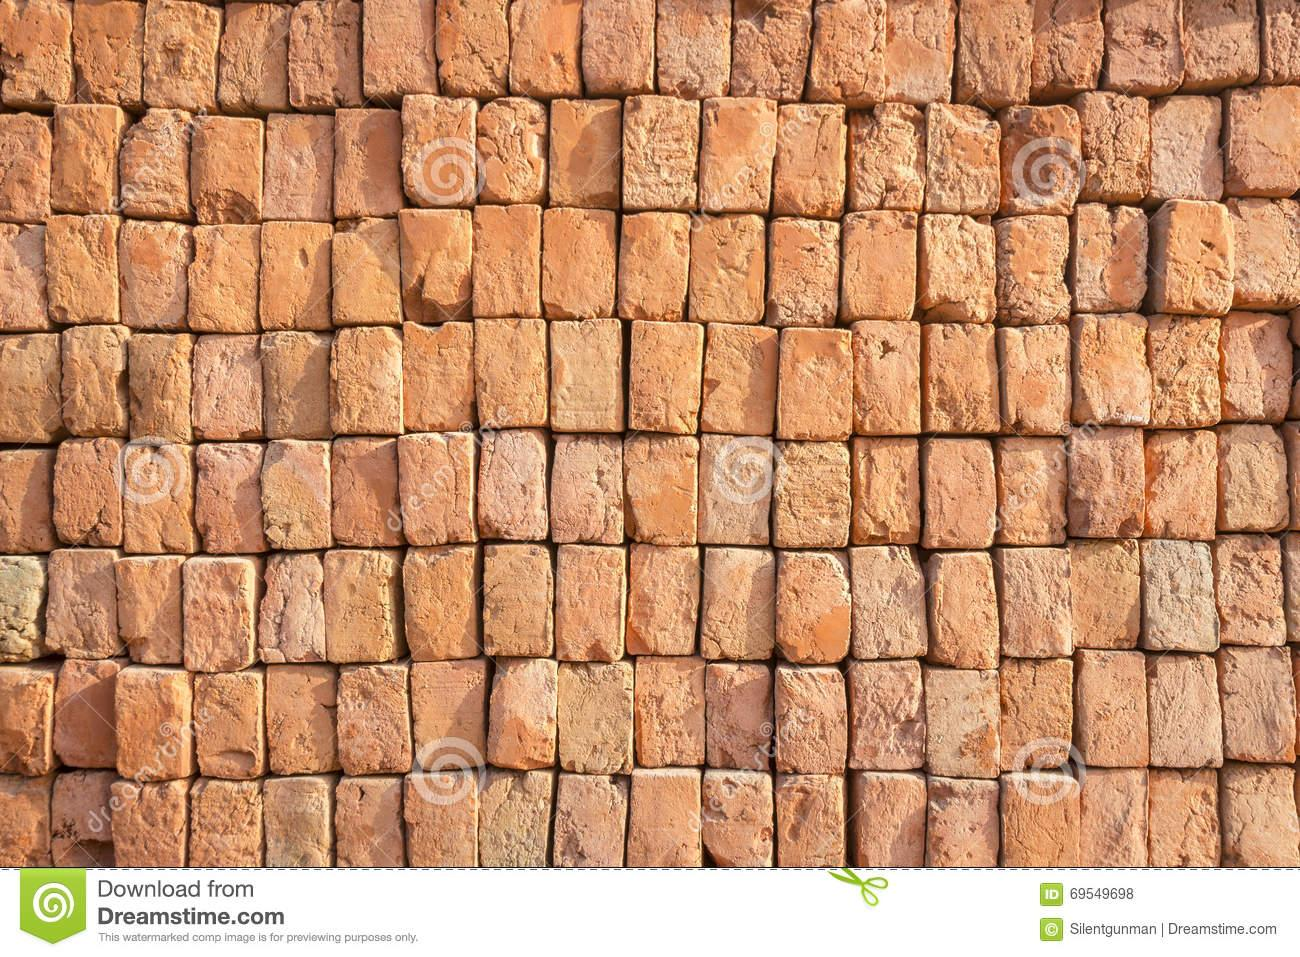brick: (1218, 646, 1297, 763), (998, 105, 1082, 214), (1071, 313, 1152, 425), (699, 97, 777, 212), (1141, 539, 1220, 651), (398, 432, 475, 545), (1146, 655, 1223, 768), (623, 96, 699, 210), (402, 94, 479, 206), (851, 547, 928, 660), (1067, 426, 1145, 537), (701, 323, 778, 435), (623, 432, 699, 544), (1146, 313, 1220, 427), (558, 660, 633, 774), (777, 328, 853, 440), (629, 321, 703, 434), (404, 544, 476, 660), (1224, 197, 1300, 308), (1077, 650, 1149, 767), (777, 552, 852, 664), (688, 214, 765, 323), (773, 104, 847, 217), (146, 1, 222, 111), (850, 660, 926, 770), (1212, 535, 1287, 646), (411, 659, 485, 770), (924, 323, 1000, 431), (555, 544, 626, 661), (1074, 203, 1149, 313), (1219, 312, 1294, 422), (997, 325, 1072, 435), (925, 669, 1001, 776), (807, 0, 886, 104), (399, 209, 472, 320), (997, 215, 1071, 326), (1148, 95, 1225, 200), (46, 214, 121, 323), (1000, 659, 1073, 771), (849, 104, 926, 210), (119, 108, 193, 218), (626, 544, 699, 654), (550, 318, 622, 431), (842, 212, 917, 319), (997, 548, 1073, 655), (851, 320, 920, 436), (773, 442, 851, 546), (542, 208, 615, 319), (701, 548, 774, 659), (289, 1, 363, 109), (634, 655, 706, 767), (618, 211, 690, 321), (550, 434, 623, 544), (338, 664, 411, 774), (931, 552, 999, 668), (1077, 92, 1151, 200), (698, 436, 772, 544), (0, 0, 76, 105), (958, 0, 1034, 105), (923, 214, 995, 323), (260, 222, 333, 331), (475, 318, 548, 427), (1144, 430, 1216, 539), (473, 204, 542, 319), (732, 0, 811, 99), (486, 657, 556, 770), (1221, 766, 1300, 866), (331, 327, 404, 435), (996, 437, 1069, 545), (192, 115, 263, 224), (926, 439, 997, 548), (927, 104, 1000, 210), (1166, 199, 1233, 314), (331, 217, 403, 325), (124, 444, 196, 552), (334, 108, 404, 219), (482, 545, 552, 656), (261, 440, 332, 549), (219, 2, 292, 108), (1069, 539, 1140, 648), (266, 665, 337, 774), (323, 550, 392, 662), (260, 331, 332, 438), (550, 99, 621, 207), (1218, 424, 1289, 532), (478, 428, 547, 539), (768, 219, 840, 325), (117, 219, 189, 325), (46, 550, 118, 656), (1226, 86, 1300, 189), (263, 113, 334, 220), (774, 671, 847, 775), (189, 225, 259, 331), (403, 322, 471, 431), (64, 327, 132, 436), (885, 0, 957, 104), (116, 671, 184, 781), (49, 104, 118, 212), (195, 443, 263, 551), (476, 97, 546, 203), (333, 437, 401, 546), (193, 335, 263, 439), (74, 1, 144, 105), (53, 658, 120, 767), (657, 0, 731, 98), (128, 334, 194, 443), (628, 770, 701, 867), (853, 438, 919, 545), (436, 0, 509, 98), (259, 553, 324, 663), (184, 560, 248, 670), (404, 772, 479, 866), (1104, 0, 1185, 88), (363, 0, 437, 96), (479, 771, 553, 867), (1002, 775, 1079, 866), (195, 673, 260, 779), (702, 770, 774, 867), (53, 439, 121, 541), (582, 0, 656, 93), (511, 1, 582, 96), (926, 774, 998, 867), (1080, 768, 1149, 866), (1, 333, 63, 442), (553, 775, 627, 866), (1032, 0, 1104, 92), (117, 557, 181, 662), (1151, 770, 1219, 867), (707, 663, 769, 769), (856, 772, 925, 867), (775, 775, 847, 866), (111, 780, 186, 867), (1180, 0, 1260, 80), (190, 779, 261, 867), (334, 779, 404, 867), (264, 777, 332, 867), (52, 772, 114, 867), (0, 112, 52, 222), (0, 450, 53, 554), (1, 667, 52, 774), (0, 222, 50, 330), (0, 556, 45, 662), (0, 776, 51, 867), (1260, 0, 1300, 83)
